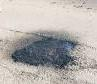pothole: (10, 32, 77, 71)
